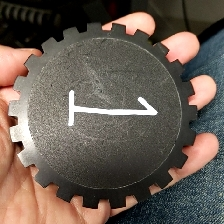gear: (6, 20, 199, 211)
